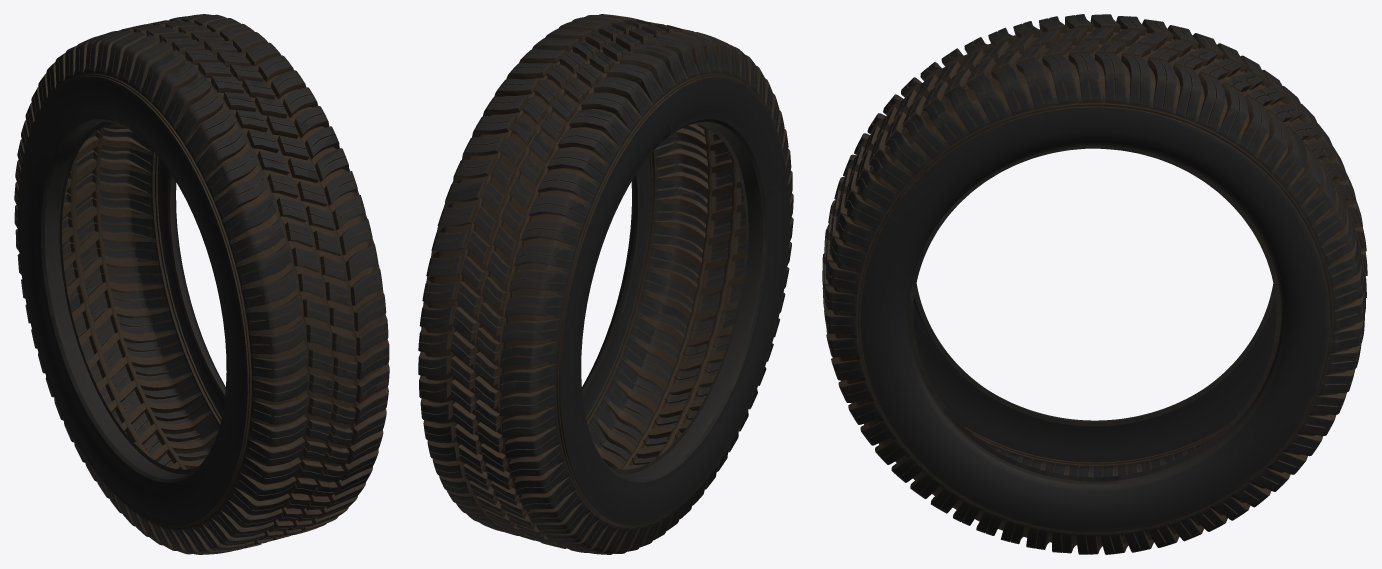
Rendered from banyo.fbx.
3 renders of one model, left to right at view 1: azimuth 30°, elevation 25°; view 2: azimuth 150°, elevation 25°; view 3: azimuth 270°, elevation 25°, orthographic. The views are drawn at different scales.
Visible parts, largest first — view 1: mp.004; view 2: mp.004; view 3: mp.004.
Part boxes in pixels (x1=…): mp.004: x1=14, y1=14, x2=389, y2=554; mp.004: x1=418, y1=14, x2=793, y2=554; mp.004: x1=822, y1=14, x2=1367, y2=554.
Bounding box in the file's own units: 21.78 × 68.77 × 68.76.
